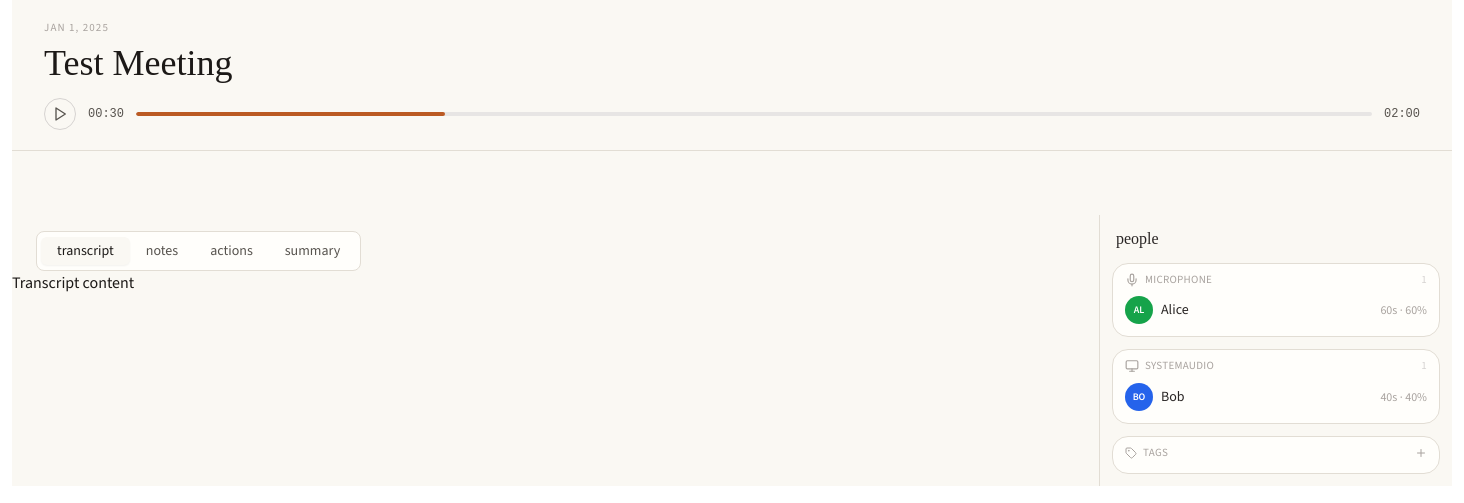
Test: MeetingWorkspace integration › switches tabs on click
Step 1. Click the tab "notes" → (162, 250), box [130, 236, 194, 264]
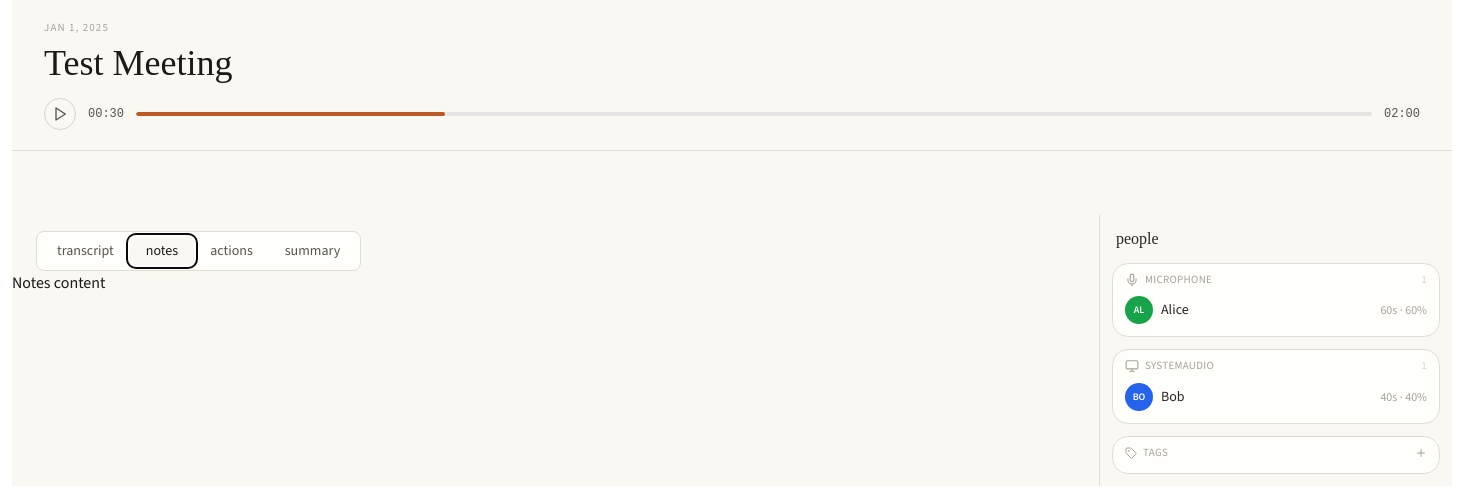
Check: the text "Notes content" is shown, box [12, 272, 106, 292]
